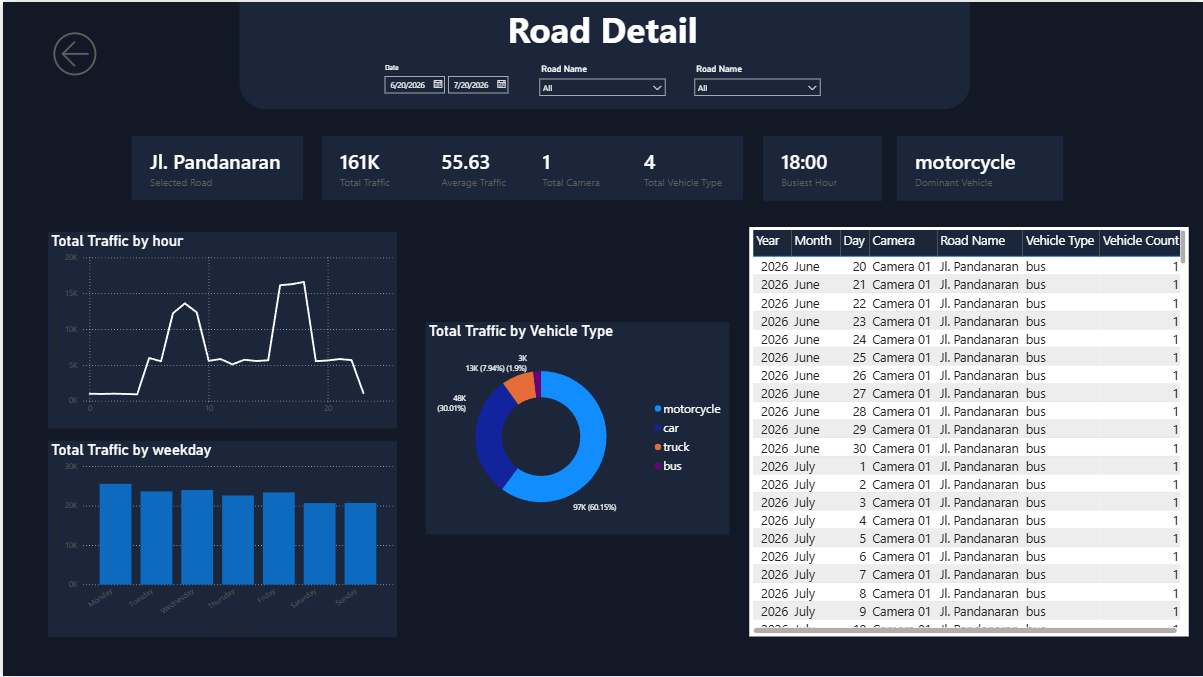

The page's visual inventory and layout, read from the dashboard file:
{"tool":"powerbi","page":{"name":"Road Detail","canvas":[1920,1080],"ordinal":1},"visuals":[{"type":"cardVisual","fields":{"Data":["public fact_traffic.Total Traffic","public fact_traffic.Avg Vehicle","public dim_camera.Total Camera","public dim_vehicle.Total Vehicle Type"]},"box":[509.2,214.4,674,102],"z":0},{"type":"cardVisual","fields":{"Data":["public fact_traffic.Busiest Hour Text"]},"box":[1215.2,214.4,190,104],"z":1000},{"type":"cardVisual","fields":{"Data":["public fact_traffic.Dominant Vehicle"]},"box":[1429.2,213.6,266,104],"z":2000},{"type":"lineChart","fields":{"Category":["public dim_time.hour"],"Y":["public fact_traffic.Total Traffic"]},"box":[72,368,558,314],"z":3000},{"type":"clusteredColumnChart","fields":{"Category":["public dim_time.weekday"],"Y":["public fact_traffic.Total Traffic"]},"box":[72,702,558,314],"z":4000},{"type":"donutChart","title":"Total Traffic by Vehicle Type","fields":{"Category":["public dim_vehicle.vehicle_type"],"Y":["public fact_traffic.Total Traffic"]},"box":[676,512,486,340],"z":5000},{"type":"shape","box":[378,0,1170,172],"z":6000},{"type":"slicer","fields":{"Values":["public dim_time.date"]},"box":[598.3,93.3,221.7,63.3],"z":7000},{"type":"slicer","fields":{"Values":["public dim_camera.road_name"]},"box":[848.3,93.3,221.7,63.3],"z":8000},{"type":"slicer","fields":{"Values":["public dim_vehicle.vehicle_type"]},"box":[1096.7,93.3,221.7,63.3],"z":9000},{"type":"textbox","box":[802,0,322,90],"z":10000},{"type":"tableEx","fields":{"Values":["public dim_time.date.Variation.Date Hierarchy.Year","public dim_time.date.Variation.Date Hierarchy.Month","public dim_time.date.Variation.Date Hierarchy.Day","public dim_camera.camera_name","public dim_camera.road_name","public dim_vehicle.vehicle_type","public fact_traffic.vehicle_count"]},"box":[1193.3,360,703.3,655],"z":11000},{"type":"actionButton","box":[72,40,106,86],"z":12000},{"type":"cardVisual","fields":{"Data":["public dim_camera.Selected Road"]},"box":[205.2,213.6,274,102],"z":12001}]}

Visuals, with their boxes in screenshot pixels (x1, y1, x2, y2), scaled from the page's 1920x1080 canvas onto the 1203x677 screenshot:
cardVisual - public fact_traffic.Total Traffic x public fact_traffic.Avg Vehicle: 319/134/741/198
cardVisual - public fact_traffic.Busiest Hour Text: 761/134/880/200
cardVisual - public fact_traffic.Dominant Vehicle: 895/134/1062/199
lineChart - public dim_time.hour x public fact_traffic.Total Traffic: 45/231/395/428
clusteredColumnChart - public dim_time.weekday x public fact_traffic.Total Traffic: 45/440/395/637
"Total Traffic by Vehicle Type" donutChart: 424/321/728/534
shape: 237/0/970/108
slicer - public dim_time.date: 375/58/514/98
slicer - public dim_camera.road_name: 532/58/670/98
slicer - public dim_vehicle.vehicle_type: 687/58/826/98
textbox: 503/0/704/56
tableEx - public dim_time.date.Variation.Date Hierarchy.Year x public dim_time.date.Variation.Date Hierarchy.Month: 748/226/1188/636
actionButton: 45/25/112/79
cardVisual - public dim_camera.Selected Road: 129/134/300/198
